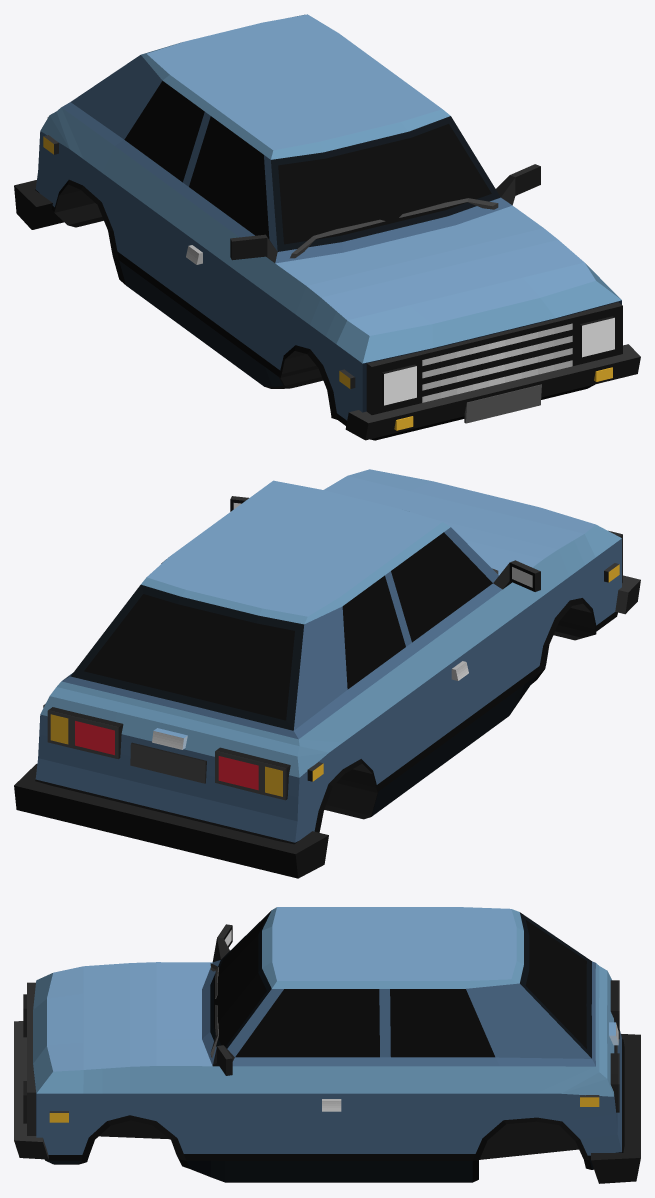
File: Coupe.002.fbx
3 renders of one model, top to bottom at view 1: azimuth 30°, elevation 25°; view 2: azimuth 150°, elevation 25°; view 3: azimuth 270°, elevation 25°, orthographic. The views are drawn at different scales.
Parts seen in each view (by area): view 1: Coupe.002; view 2: Coupe.002; view 3: Coupe.002.
Part boxes in pixels (x1,y1,x2,y2): Coupe.002: (14,14,640,440); Coupe.002: (14,469,640,878); Coupe.002: (14,907,640,1183).
Bounding box in the file's own units: 1.75 × 1.14 × 3.44.
